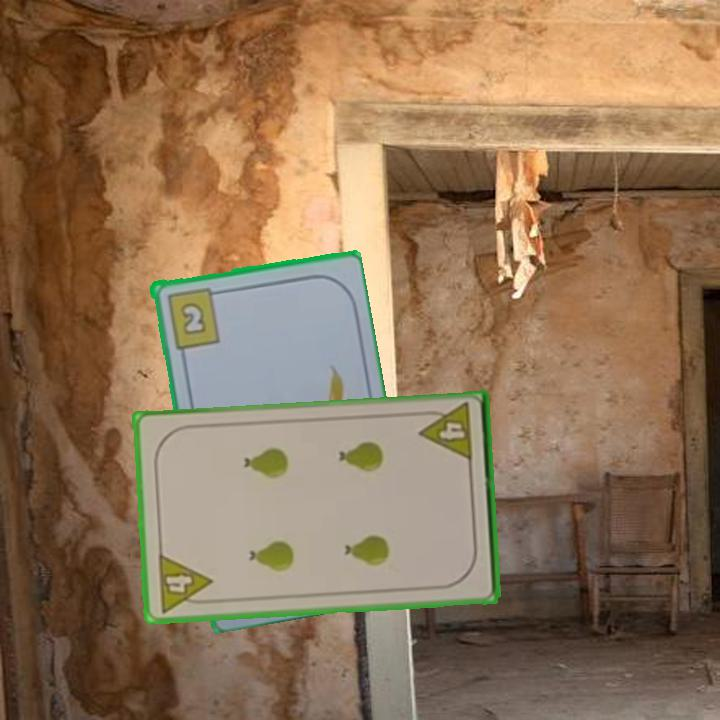2b: (163, 283, 224, 351)
4p: (154, 550, 216, 615), (416, 399, 476, 465)
